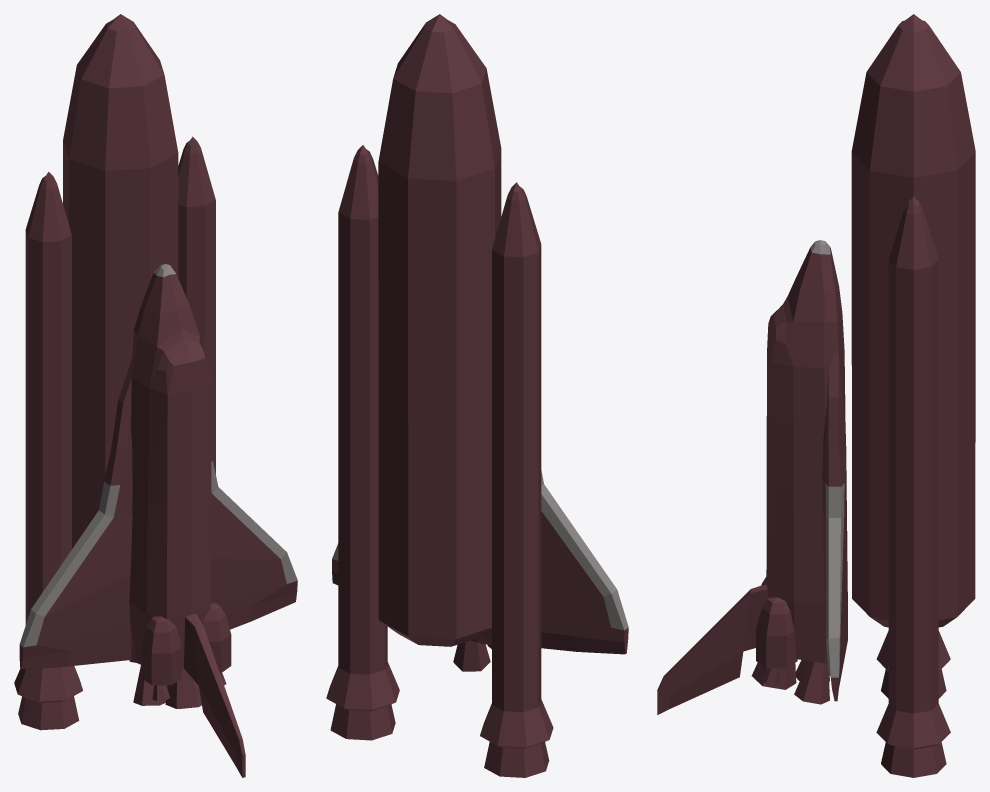
The model's file is space-shuttle-rockets.fbx.
3 views of the same model, side by side, from view 1: azimuth 30°, elevation 25°; view 2: azimuth 150°, elevation 25°; view 3: azimuth 270°, elevation 25° (orthographic). The views are drawn at different scales.
Visible parts, largest first — view 1: space-shuttle-base-rockets, space-rocket-big-rockets, space-rocket_L-rockets, space-shuttle-door_L-rockets, space-rocket_R-rockets, space-shuttle-door_R-rockets; view 2: space-rocket-big-rockets, space-rocket_L-rockets, space-rocket_R-rockets, space-shuttle-base-rockets; view 3: space-rocket-big-rockets, space-shuttle-base-rockets, space-rocket_R-rockets, space-shuttle-door_R-rockets, space-rocket_L-rockets.
Boxes of the visible parts, x1,y1,x2,y2 form: space-shuttle-base-rockets: (19,264,297,777); space-rocket-big-rockets: (63,14,178,548); space-rocket_L-rockets: (14,172,82,730); space-shuttle-door_L-rockets: (146,388,191,619); space-rocket_R-rockets: (166,136,215,688); space-shuttle-door_R-rockets: (191,384,211,614); space-rocket-big-rockets: (378,14,501,646); space-rocket_L-rockets: (480,182,553,777); space-rocket_R-rockets: (326,145,399,740); space-shuttle-base-rockets: (332,470,628,671); space-rocket-big-rockets: (851,14,975,627); space-shuttle-base-rockets: (657,240,847,714); space-rocket_R-rockets: (876,196,950,777); space-shuttle-door_R-rockets: (766,352,793,602); space-rocket_L-rockets: (876,631,950,698).
Bounding box in the file's own units: 22.45 × 53.64 × 21.69.
